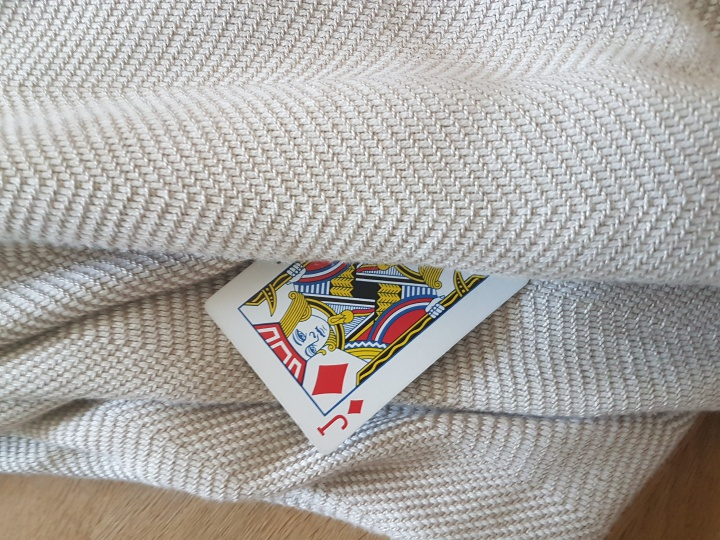jack: (193, 218, 532, 467)
